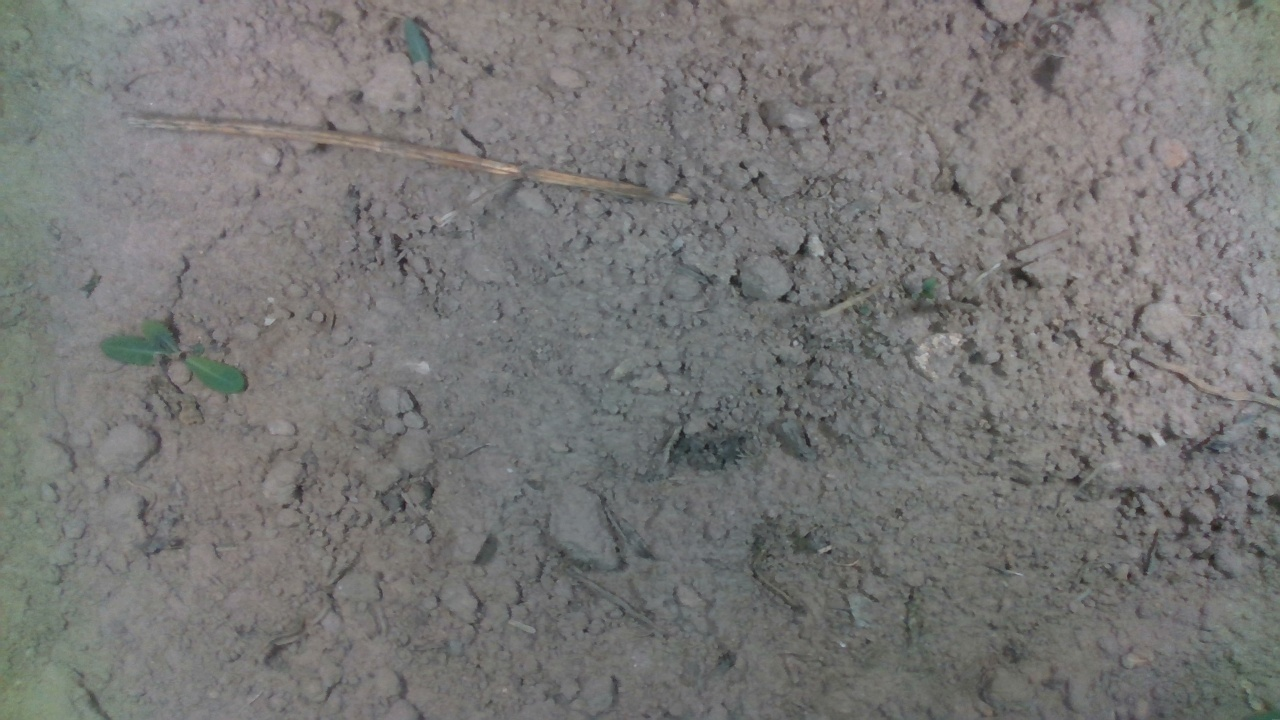weed: (96, 316, 247, 395)
